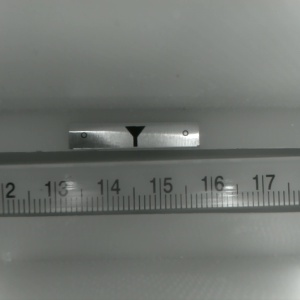1: (149, 177, 156, 193), (97, 179, 104, 195), (43, 181, 50, 196), (252, 175, 258, 191), (200, 176, 206, 191)
2: (4, 182, 15, 198)
3: (57, 181, 67, 196)
4: (111, 179, 121, 194)
5: (163, 177, 172, 192)
6: (214, 176, 224, 191)
7: (265, 175, 275, 190)
finger: (123, 126, 145, 148)
